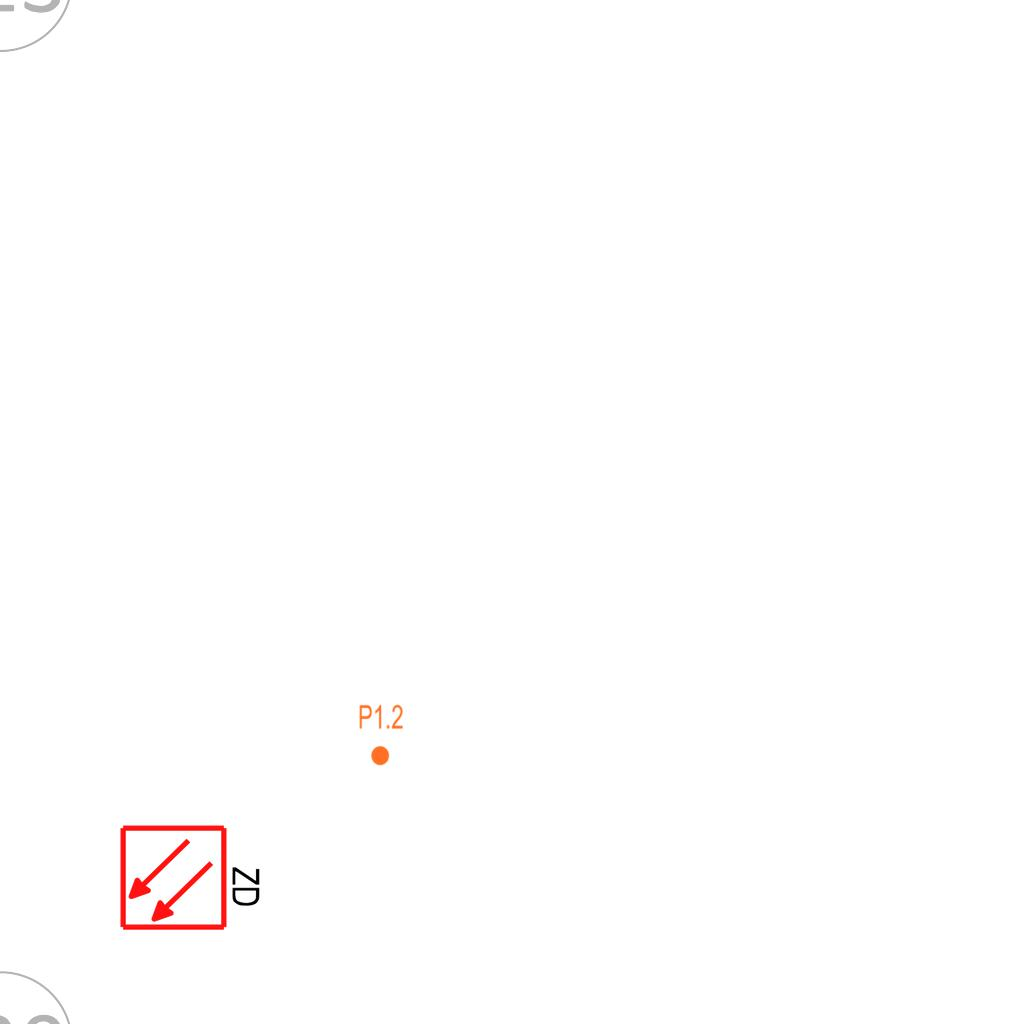Downlight_LED_Einbauleuchten_Flur: (358, 703, 404, 767)
ZD_Melder_in_Zwischendecke_mit_Revisionsoeffnung_mind_40_x_40_cm: (118, 819, 267, 933)
